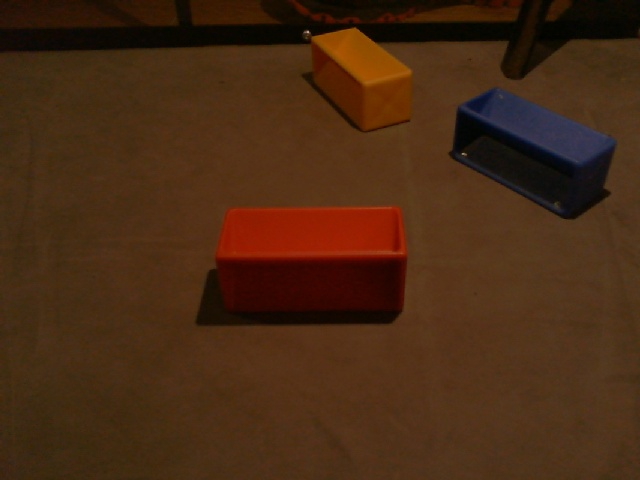BlueSample: (446, 83, 617, 222)
RedSample: (214, 202, 411, 317)
YellowSample: (310, 23, 415, 135)
